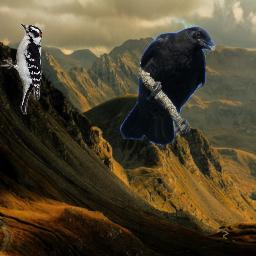Crow: (120, 26, 217, 146)
Woodpecker: (0, 22, 43, 115)
